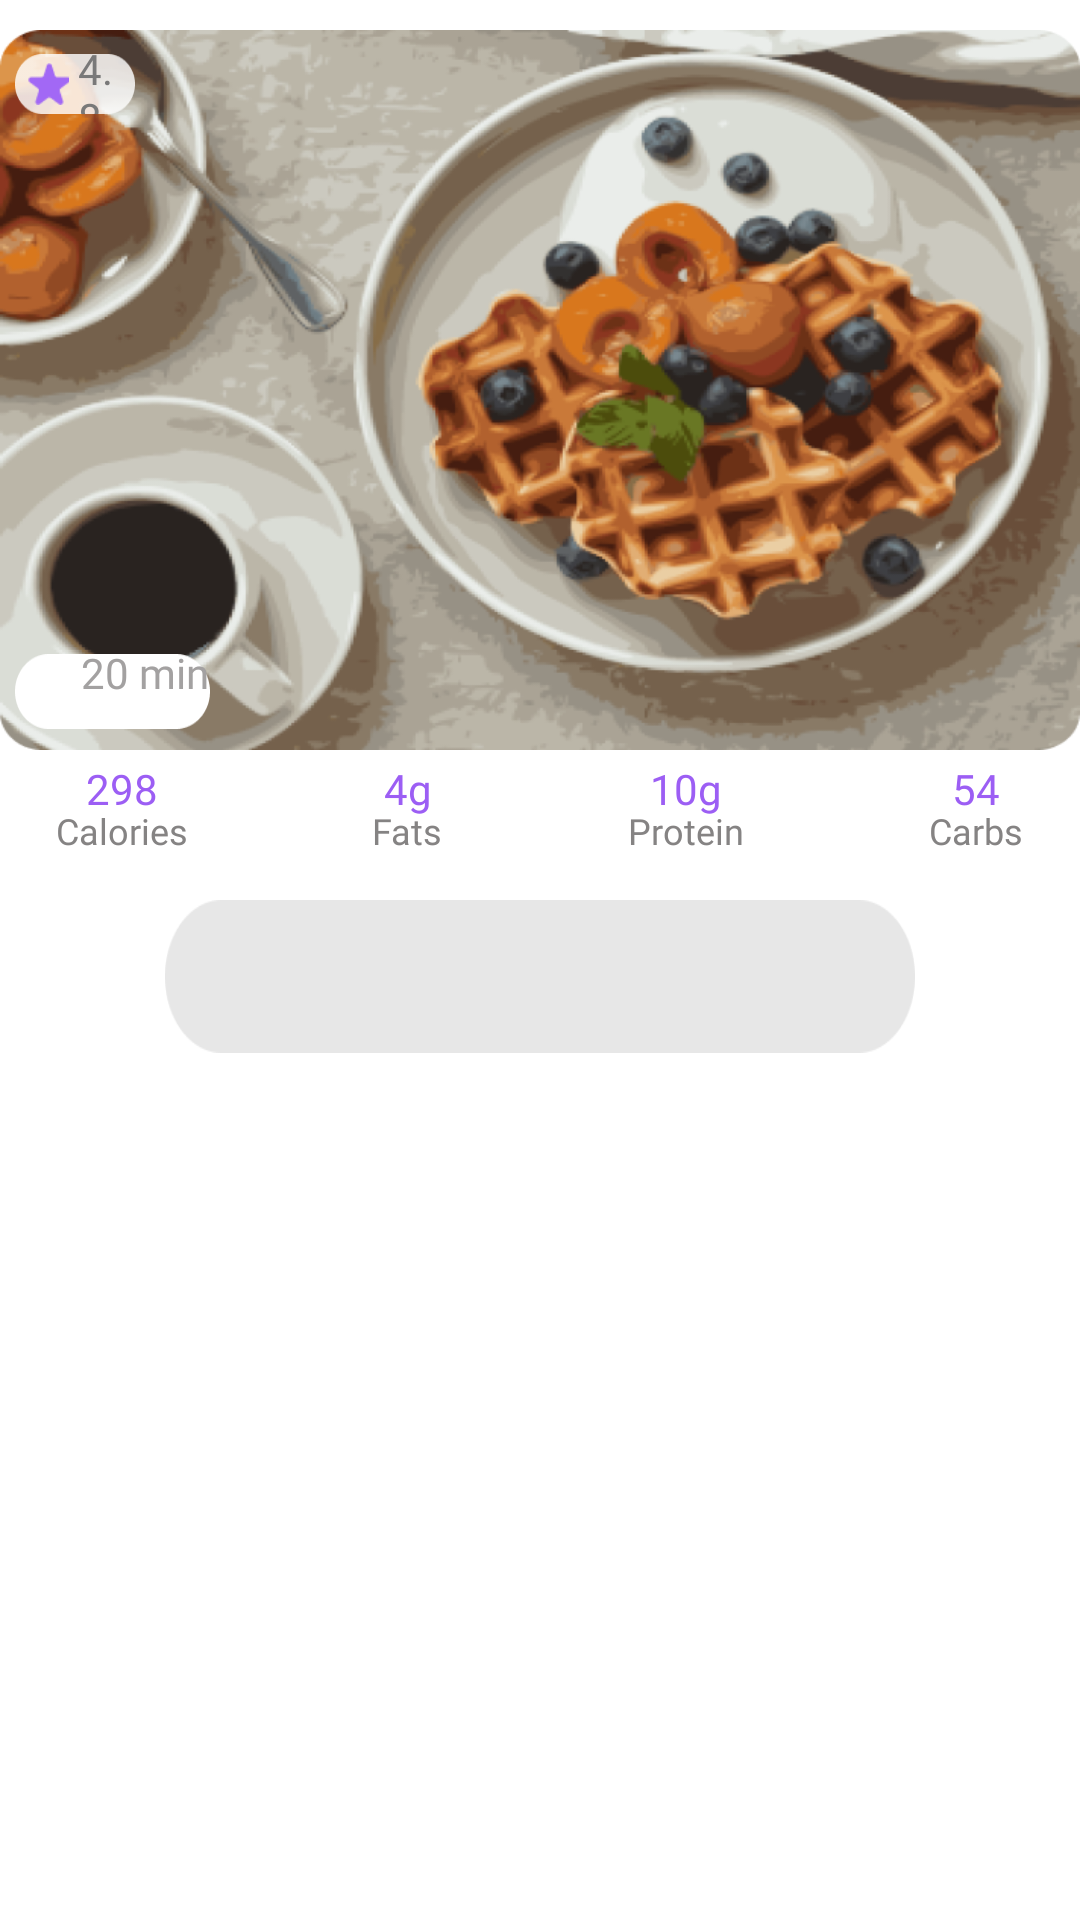

Named icons in this screenshot (1080*1920) and their centers, [x,y]:
recipe rating star: [48,84]
